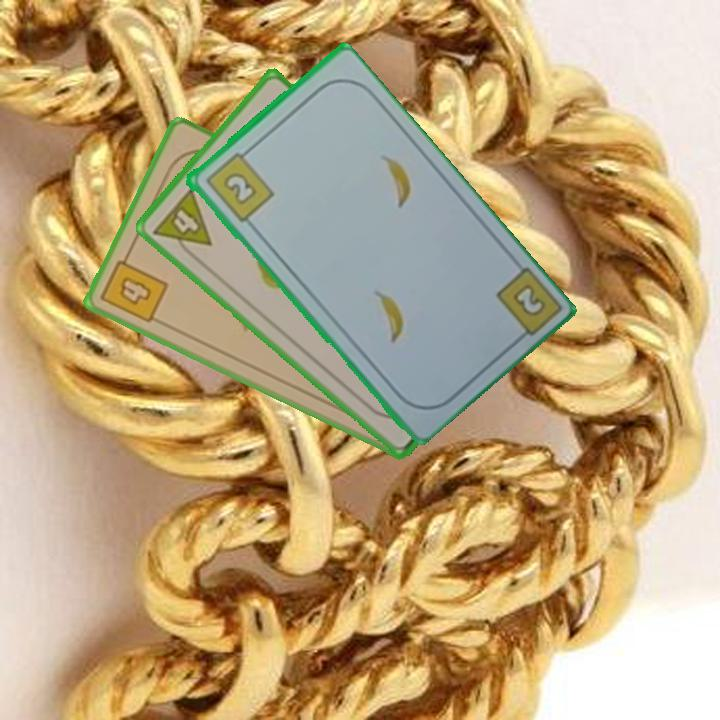2b: (491, 262, 561, 348), (201, 145, 276, 225)
4b: (96, 248, 171, 326)
4p: (149, 184, 215, 264)
